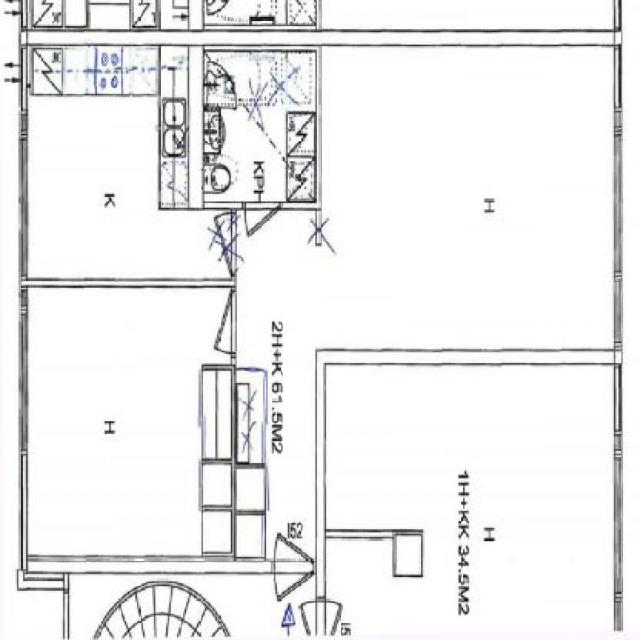door: (272, 532, 317, 600), (211, 291, 243, 360), (209, 217, 242, 274), (298, 600, 342, 640), (242, 200, 284, 238)
window: (615, 432, 623, 630), (20, 112, 29, 278), (20, 289, 29, 451), (616, 109, 622, 343)
zone: (232, 48, 616, 558), (326, 362, 614, 632), (31, 292, 234, 552), (28, 47, 232, 276), (202, 46, 316, 199)
